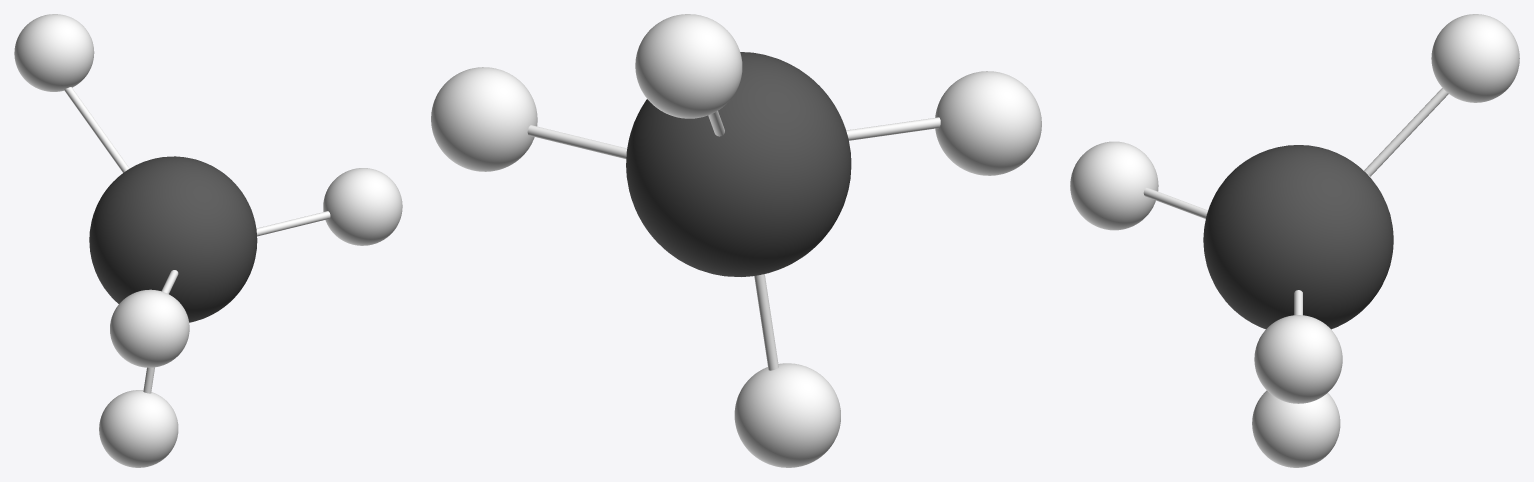
File: molecula.gltf
3 views of the same model, side by side, from view 1: azimuth 30°, elevation 25°; view 2: azimuth 150°, elevation 25°; view 3: azimuth 270°, elevation 25° (orthographic). The views are drawn at different scales.
Parts seen in each view (by area): view 1: Object_5, Object_23, Object_13, Object_19, Object_7, Object_17, Object_9; view 2: Object_5, Object_13, Object_23, Object_19, Object_7, Object_9, Object_11, Object_21; view 3: Object_5, Object_13, Object_7, Object_23, Object_19, Object_17, Object_21.
Part boxes in pixels (<box>): Object_5: <box>89,156,257,322</box>; Object_23: <box>110,289,189,367</box>; Object_13: <box>14,14,94,91</box>; Object_19: <box>99,390,178,467</box>; Object_7: <box>323,168,402,245</box>; Object_17: <box>64,87,129,172</box>; Object_9: <box>256,211,330,236</box>; Object_5: <box>626,52,851,276</box>; Object_13: <box>635,14,742,118</box>; Object_23: <box>935,71,1041,175</box>; Object_19: <box>734,363,840,467</box>; Object_7: <box>431,67,537,171</box>; Object_9: <box>527,125,627,158</box>; Object_11: <box>754,274,778,370</box>; Object_21: <box>846,117,940,140</box>; Object_5: <box>1203,145,1393,329</box>; Object_13: <box>1431,14,1519,102</box>; Object_7: <box>1254,315,1342,403</box>; Object_23: <box>1070,141,1158,230</box>; Object_19: <box>1252,390,1340,467</box>; Object_17: <box>1364,88,1448,176</box>; Object_21: <box>1143,187,1207,218</box>.
Bounding box in the file's own units: 0.2031 × 0.2081 × 0.1917.
Materials: 3 (3 with a texture image).
